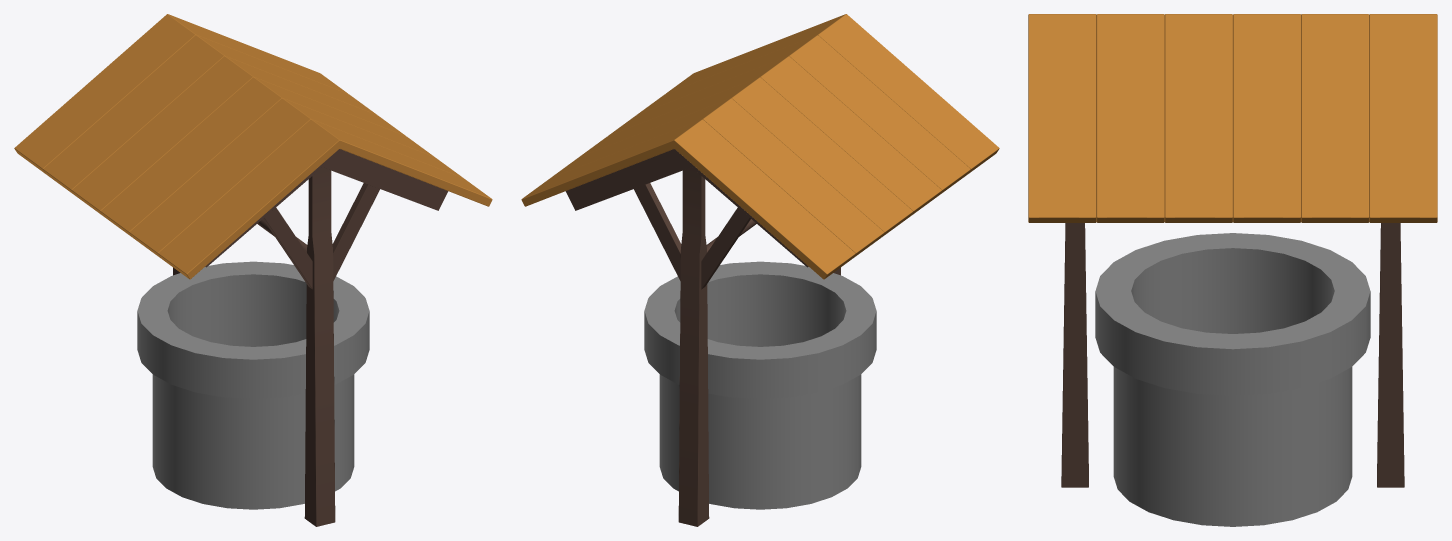
File: SM_Well.fbx
3 views of the same model, side by side, from view 1: azimuth 30°, elevation 25°; view 2: azimuth 150°, elevation 25°; view 3: azimuth 270°, elevation 25° (orthographic). The views are drawn at different scales.
Visible parts, largest first — view 1: Cylinder.001; view 2: Cylinder.001; view 3: Cylinder.001.
Part boxes in pixels (x1,y1,x2,y2): Cylinder.001: (14, 14, 492, 526); Cylinder.001: (521, 14, 999, 526); Cylinder.001: (1028, 14, 1437, 526).
Bounding box in the file's own units: 205 × 252 × 200.
